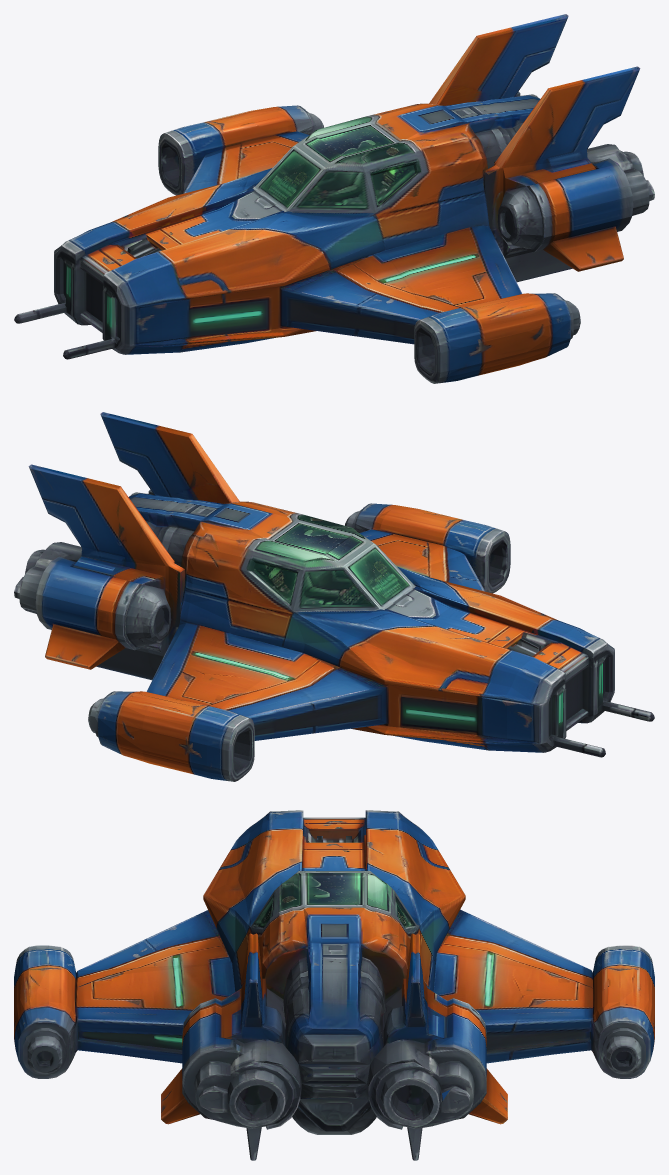
File: Meshy_AI_Emerald_Void_Intercep_0707094557_texture.glb
3 views of the same model, one above another, from view 1: azimuth 30°, elevation 25°; view 2: azimuth 150°, elevation 25°; view 3: azimuth 270°, elevation 25° (orthographic). The views are drawn at different scales.
Size of the model in its own units: 1.91 by 0.6106 by 1.66.
Materials: 1 (1 with a texture image).
